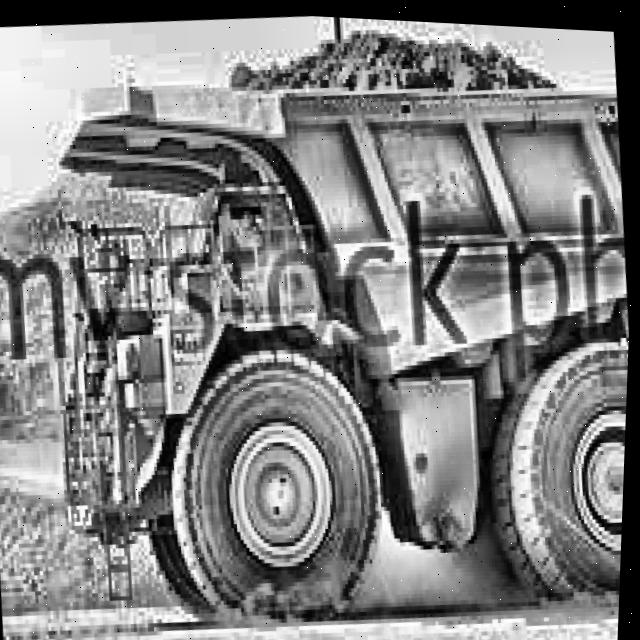dump_truck: (0, 1, 640, 640)
